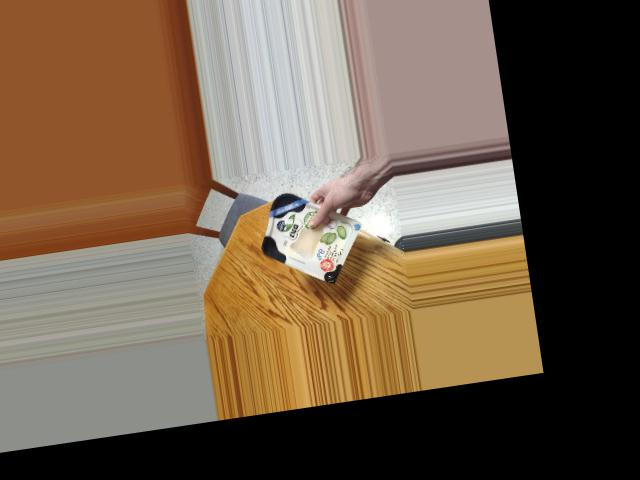cheese: (247, 185, 354, 286)
